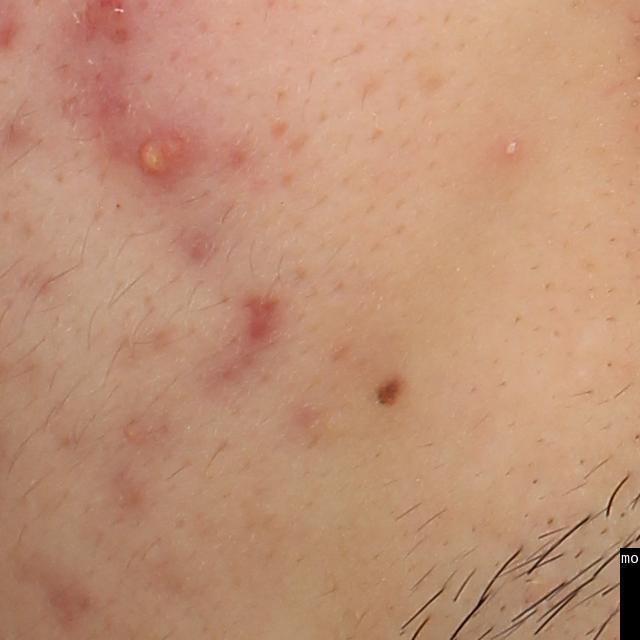nevus: (372, 370, 403, 403)
pustule: (134, 124, 207, 185), (502, 136, 522, 160)
